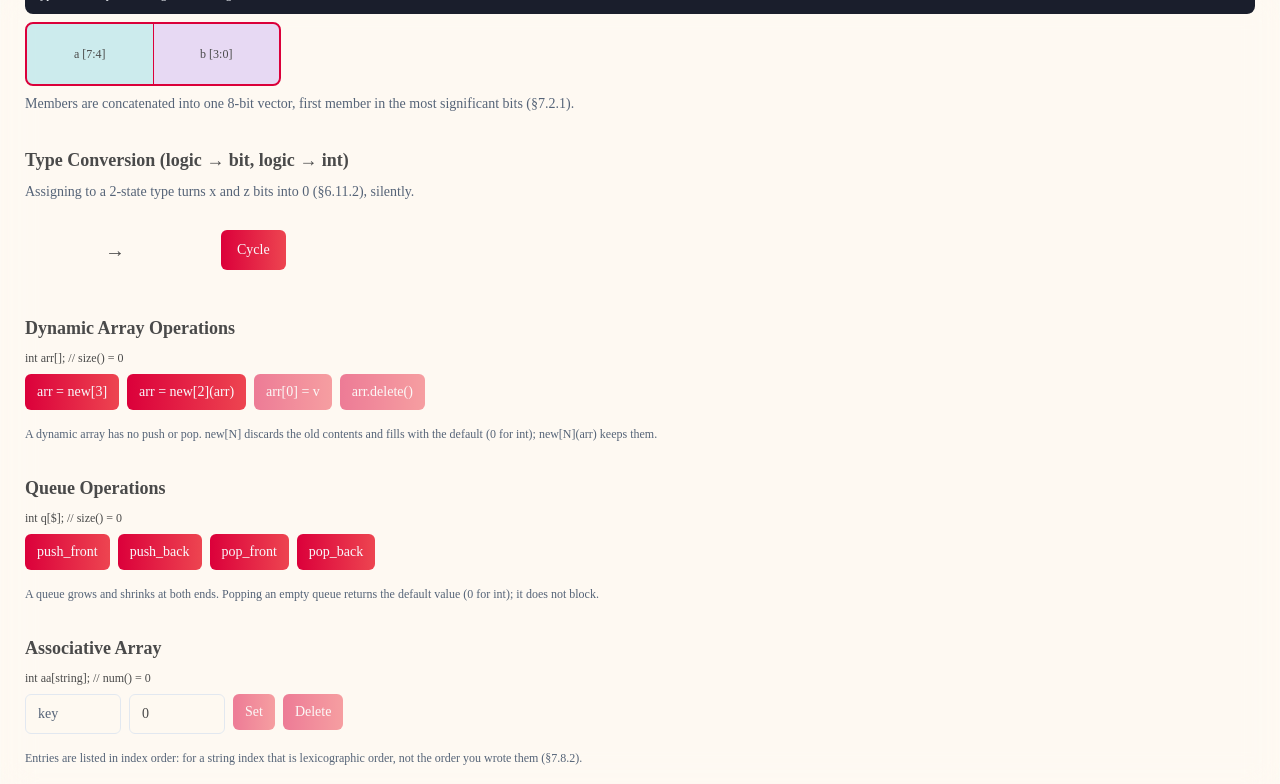
it: SystemVerilogDataTypesAnimation: rules from the models › associative array: entries in lexicographic key order, and a key holding 0 can be deleted (§7.8.2, §7.9.2)
This screenshot has width=1280, height=784.
(page scrolled)
Type "b" into the field labelled "key". click: (73, 714)
box: [25, 694, 121, 734]
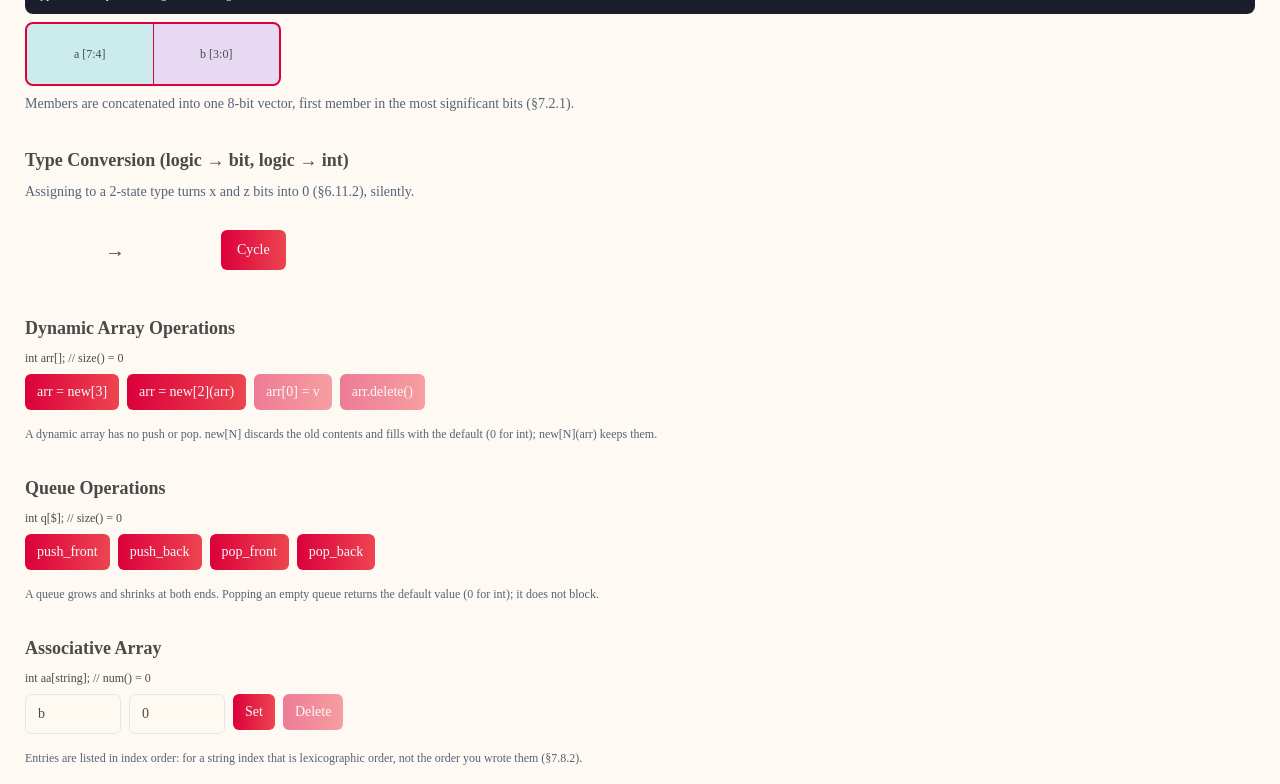
Replace the text in the number field named "value" with "5". click: (177, 714)
box: [129, 694, 225, 734]
Click the button "Set". click: (254, 712)
box: [233, 694, 275, 730]
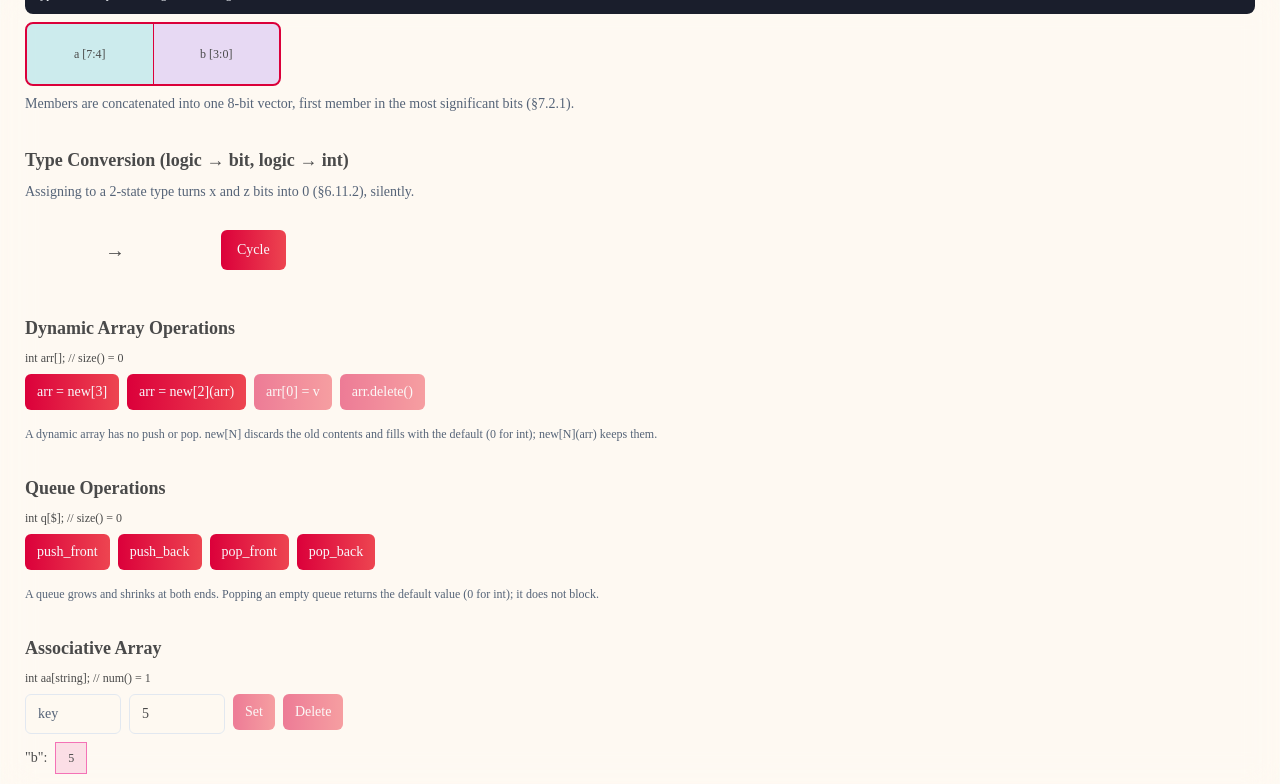
Type "a" into the field labelled "key". click: (73, 714)
box: [25, 694, 121, 734]
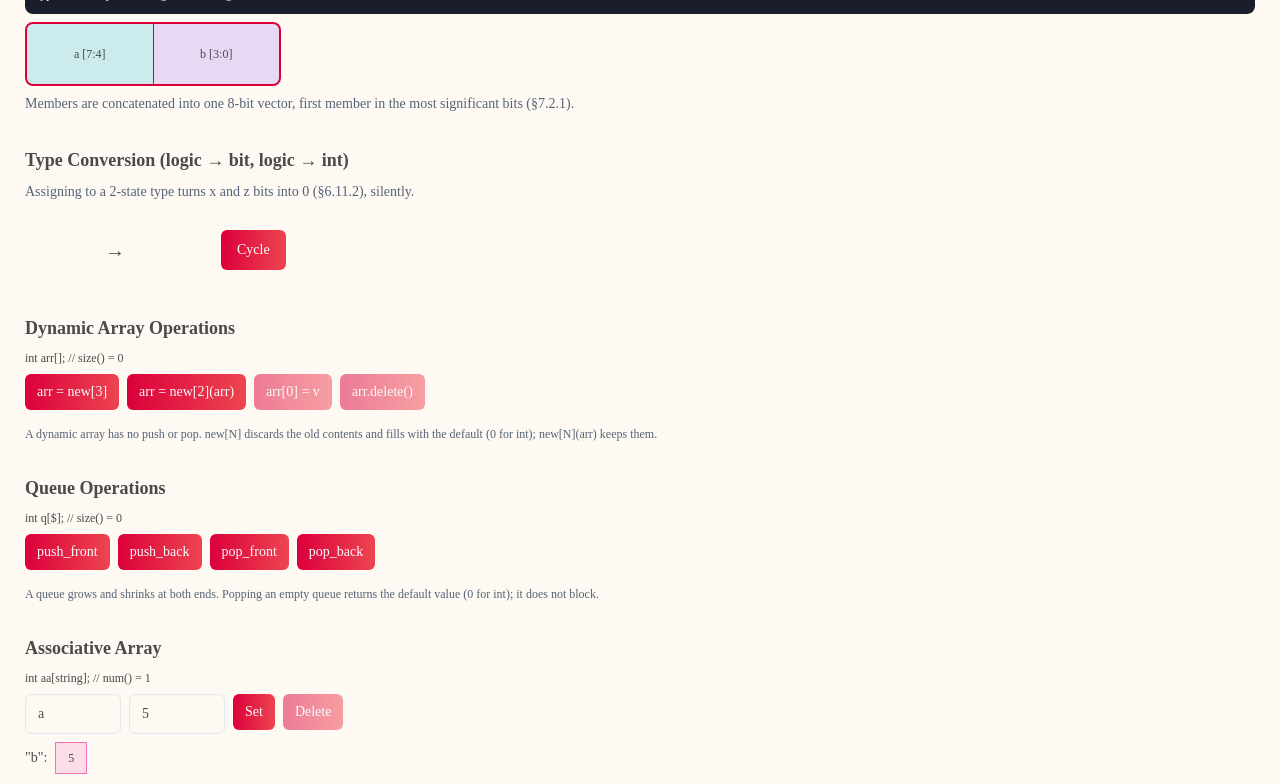
Replace the text in the number field named "value" with "0". click: (177, 714)
box: [129, 694, 225, 734]
Click the button "Set". click: (254, 712)
box: [233, 694, 275, 730]
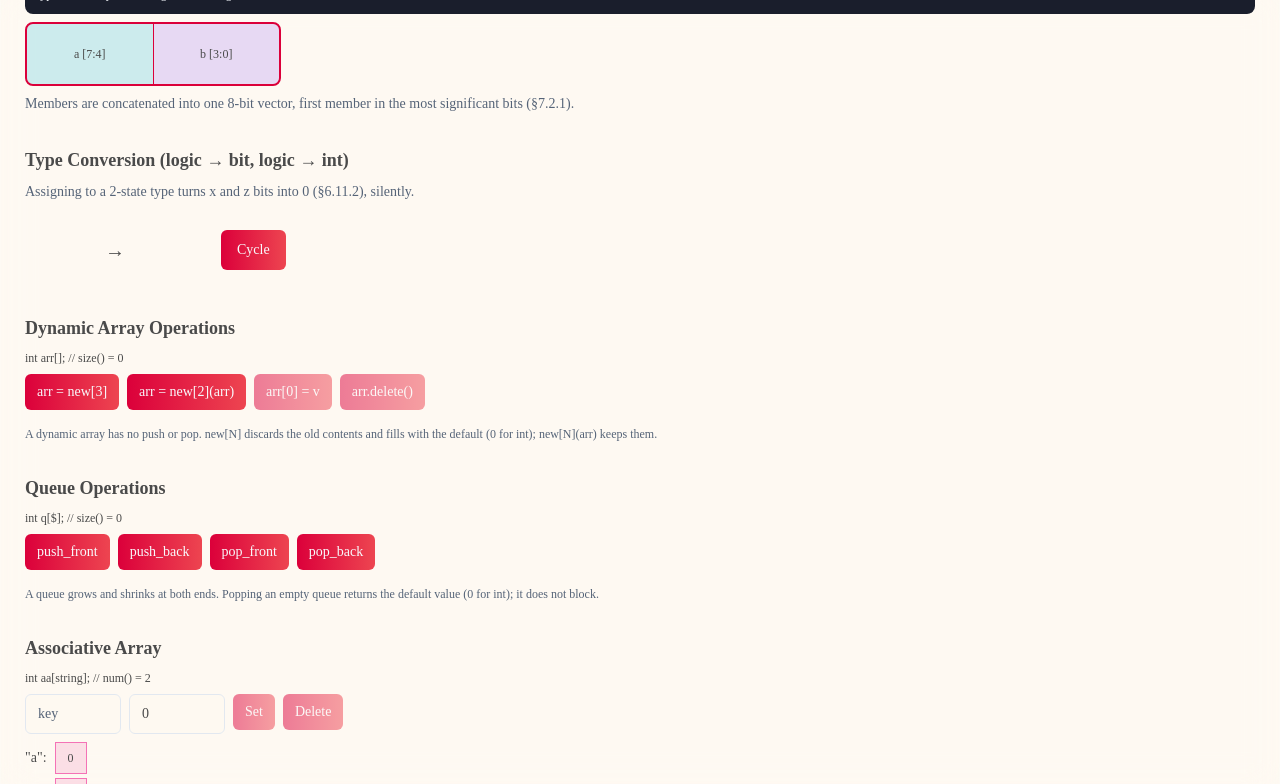
Type "a" into the field labelled "key". click: (73, 714)
box: [25, 694, 121, 734]
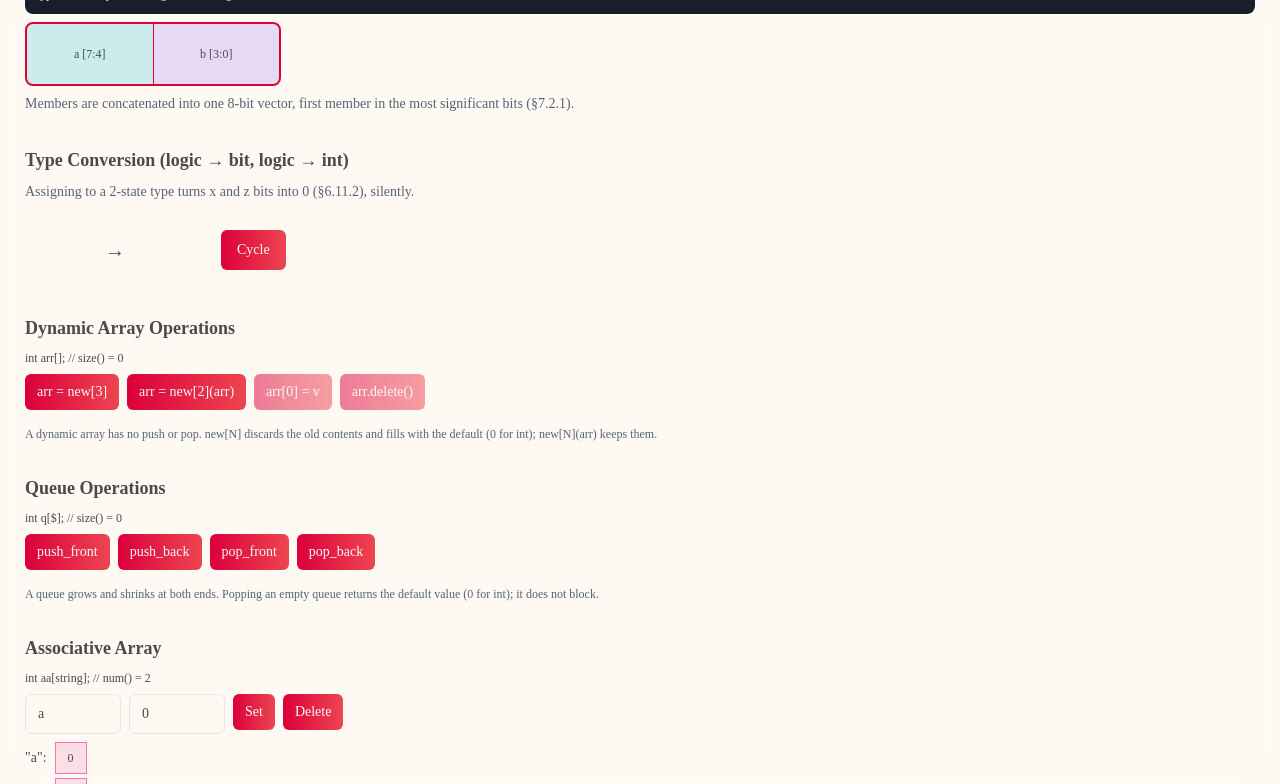
Expected: the button "Delete" is enabled
Click the button "Delete". click: (313, 712)
box: [283, 694, 343, 730]
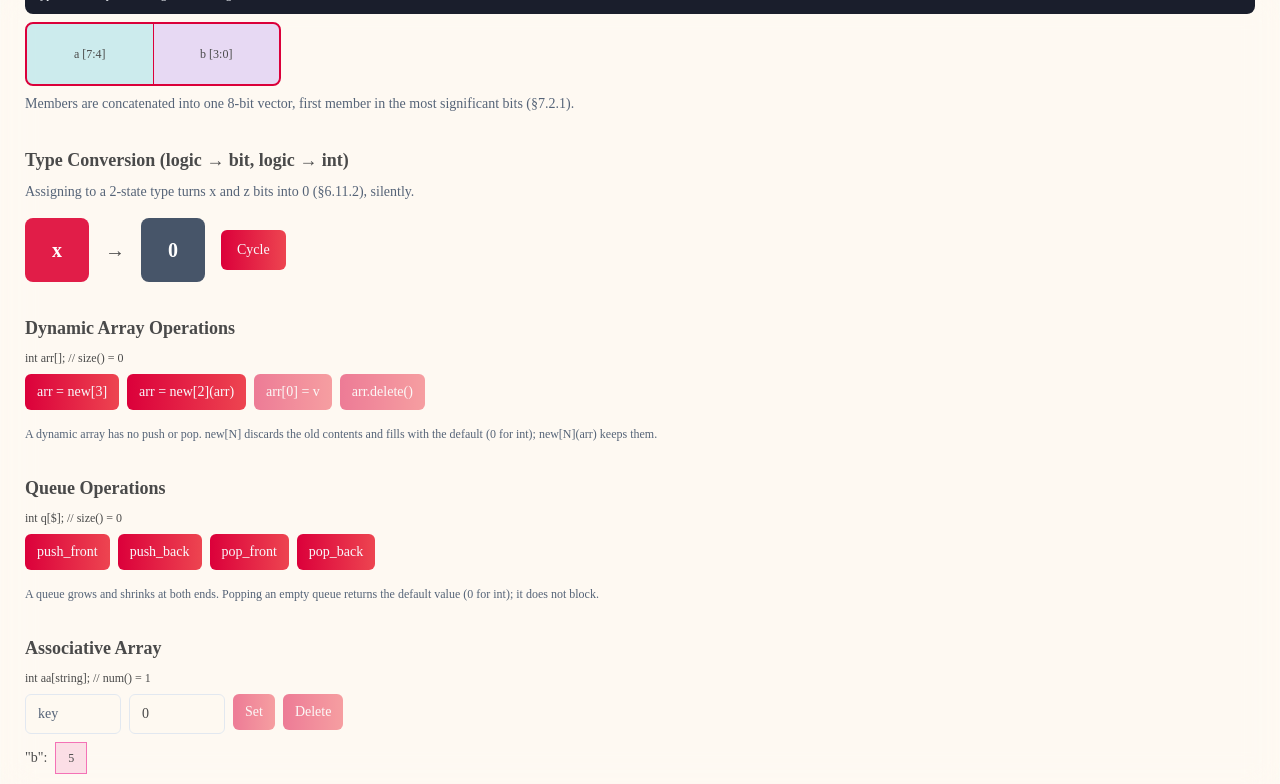
Expected: the number of list items is 1, [25, 742, 87, 774]
